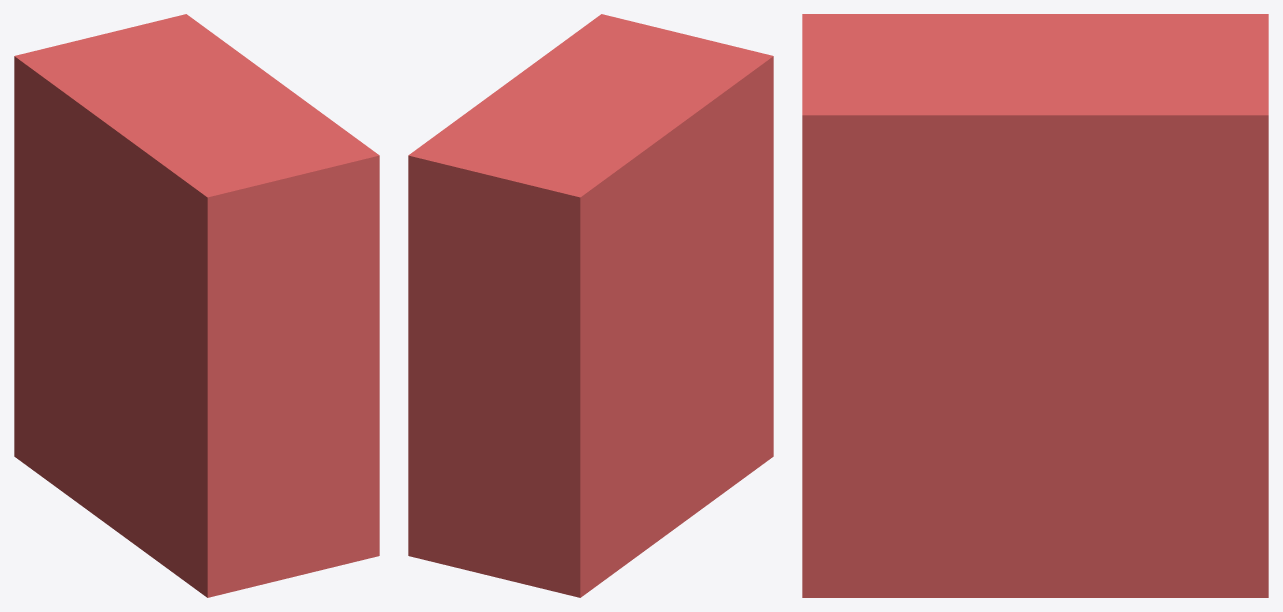
The model's file is NXB-63_C6_2P.glb.
3 views of the same model, side by side, from view 1: azimuth 30°, elevation 25°; view 2: azimuth 150°, elevation 25°; view 3: azimuth 270°, elevation 25° (orthographic). The views are drawn at different scales.
Parts seen in each view (by area): view 1: NXB-63_C6_2P; view 2: NXB-63_C6_2P; view 3: NXB-63_C6_2P.
Part boxes in pixels (left/top/right/bottom): NXB-63_C6_2P: left=14, top=14, right=379, bottom=597; NXB-63_C6_2P: left=408, top=14, right=773, bottom=597; NXB-63_C6_2P: left=802, top=14, right=1268, bottom=597.
Bounding box in the file's own units: 36 × 80 × 70.
